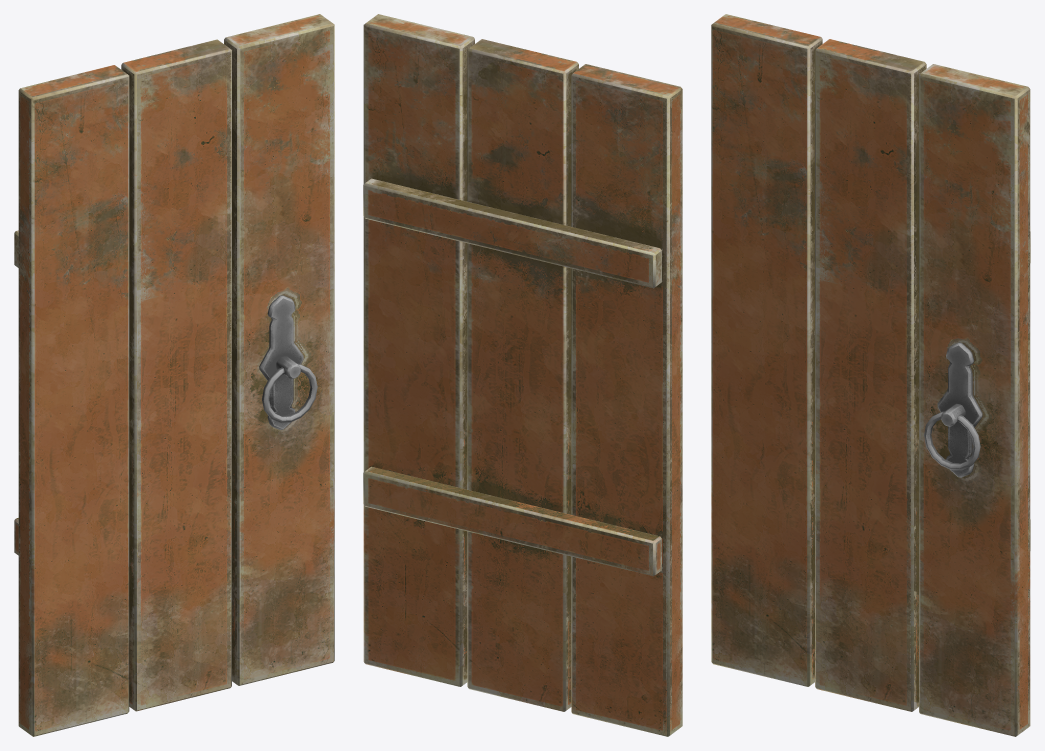
Rendered from Puerta.fbx.
3 views of the same model, side by side, from view 1: azimuth 30°, elevation 25°; view 2: azimuth 150°, elevation 25°; view 3: azimuth 330°, elevation 25° (orthographic).
Visible parts, largest first — view 1: Cuerpo general.004; view 2: Cuerpo general.004; view 3: Cuerpo general.004.
Part boxes in pixels (x1,y1,x2,y2): Cuerpo general.004: [14, 14, 334, 736]; Cuerpo general.004: [363, 14, 682, 736]; Cuerpo general.004: [711, 14, 1030, 736].
Bounding box in the file's own units: 111 × 222 × 23.96.
Materials: 2 (2 with a texture image).
